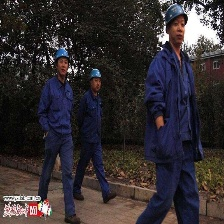helmet: (163, 3, 190, 22), (54, 50, 71, 61), (88, 67, 101, 80)
no-vest: (150, 44, 198, 130), (45, 79, 74, 127), (84, 94, 101, 138)
person: (136, 2, 203, 224), (36, 42, 84, 224), (72, 67, 119, 205)
